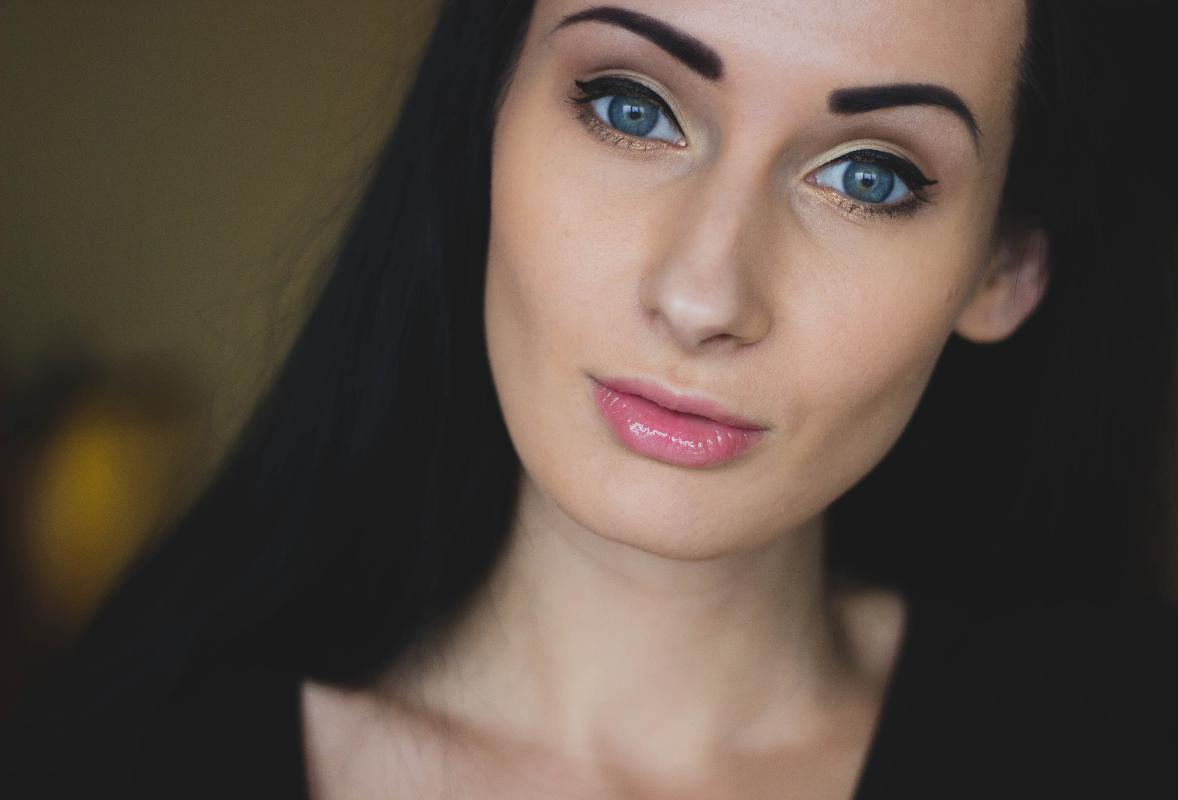Person: (33, 8, 1069, 800)
